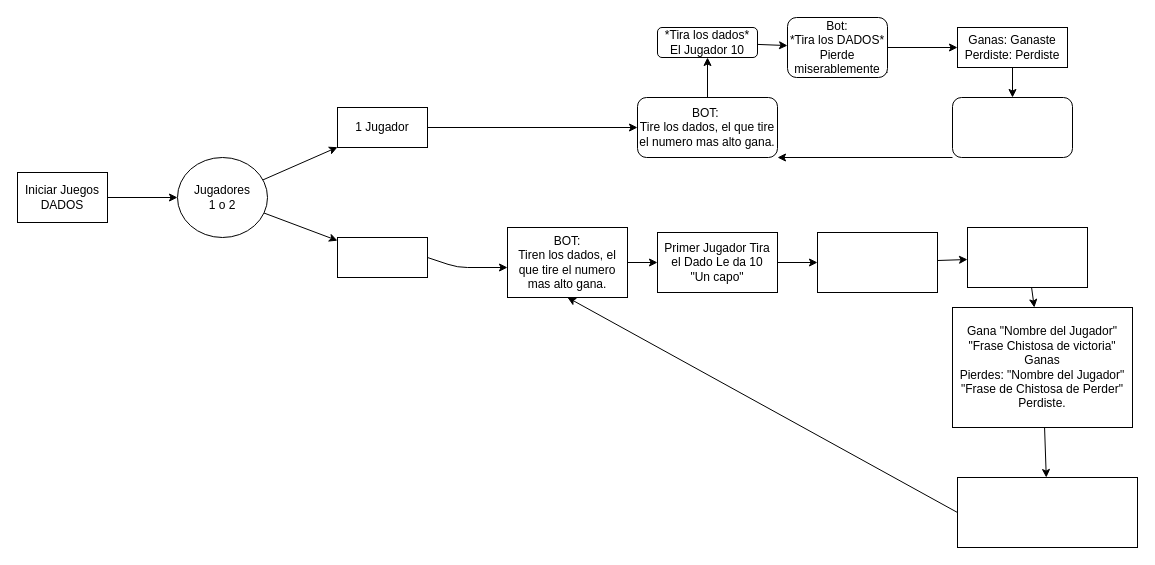
This 1155x565 diagram has some shape labels left out. Each missing label, with the box of its shape:
2 Jugadores: (336, 236, 428, 278)
Bot: Su turno "Nombre del Player": (816, 232, 938, 292)
Quieres Volver a Jugar? SI: Ambos usuarios Deben decir que si No: Se cierra alv: (956, 476, 1138, 548)
Segundo Jugador Tira el Dado le da 6 "Sos un pete": (966, 226, 1088, 288)
Volver a Tirar? NO o Si No: Se Cierra alv SI: REINICIA.: (952, 96, 1072, 158)
